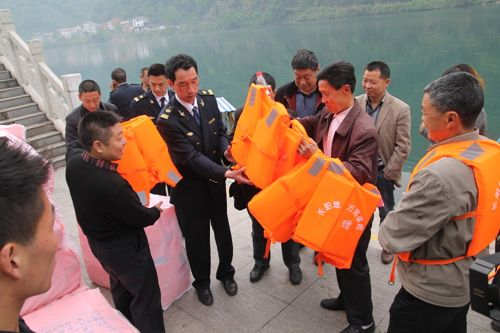other_clothes: (62, 150, 146, 243), (158, 90, 230, 198), (359, 90, 412, 182), (314, 102, 368, 185), (63, 100, 121, 139), (279, 73, 319, 123), (135, 86, 176, 134), (112, 82, 140, 115)
reflective_clothes: (392, 127, 498, 310)
